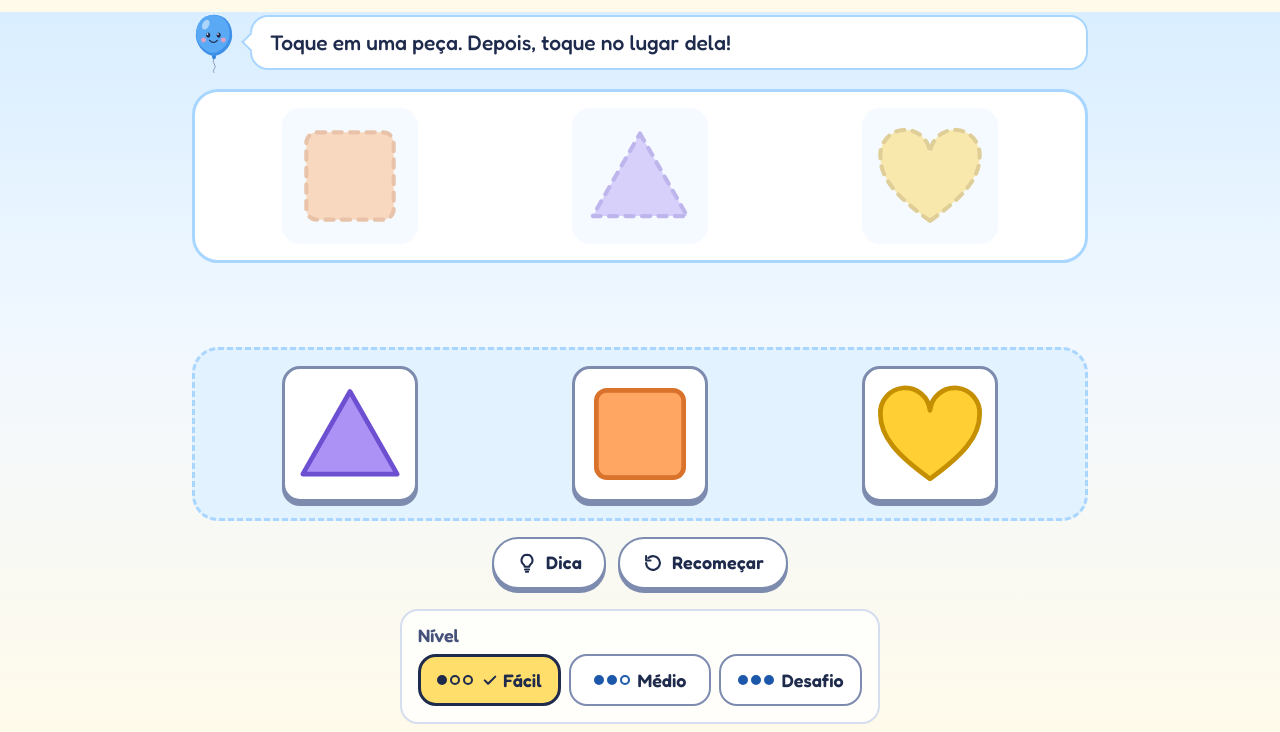
Test: Encaixe as Formas › pede para escolher uma peça quando tocam primeiro em um lugar
The image size is (1280, 732).
Click the button named "Lugar em forma de " at (350, 176), box [282,108,418,244]
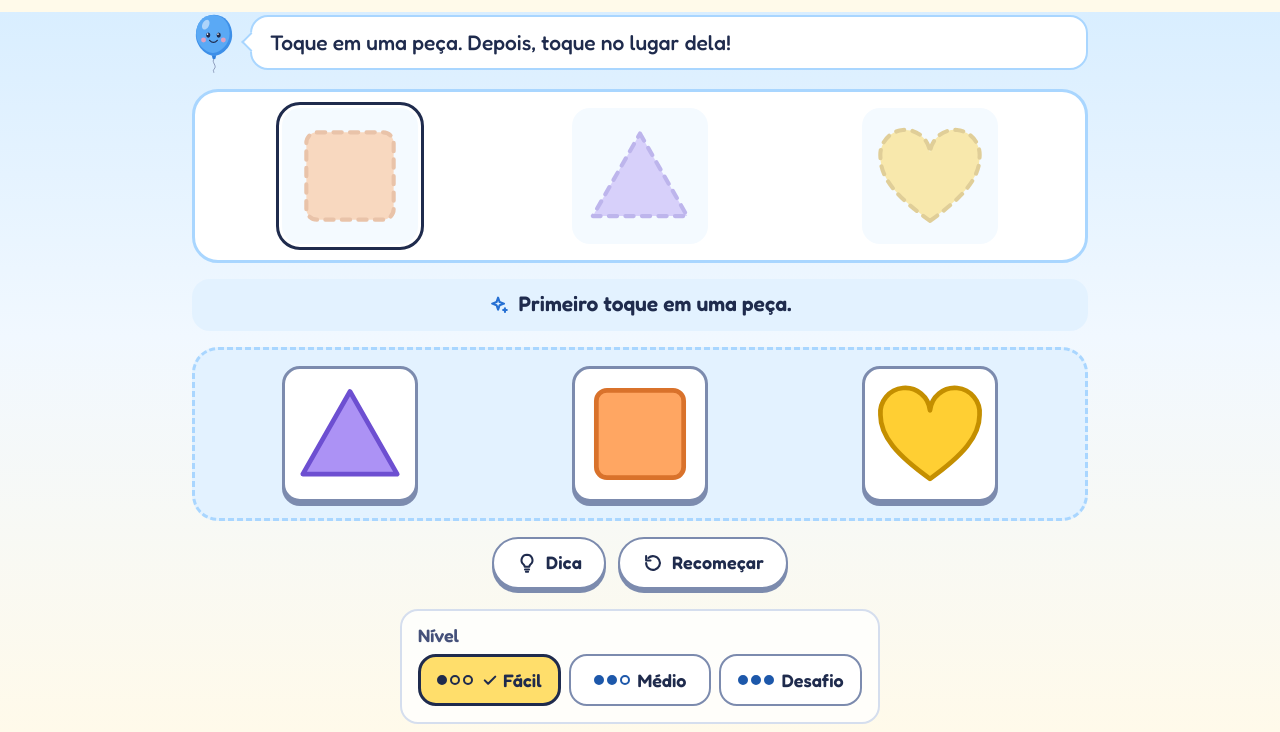
Expected: the message reads "Primeiro toque em uma peça.", [518,291,792,316]
